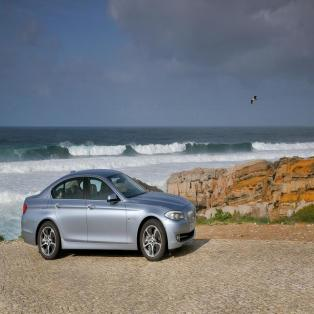Auto: (20, 168, 197, 263)
